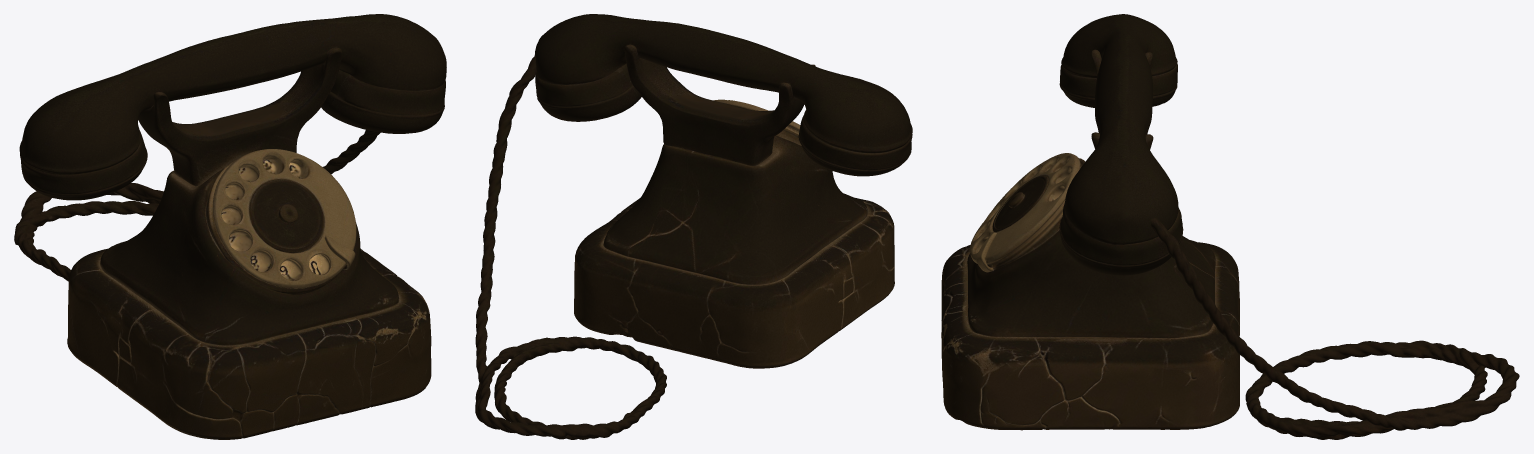
File: telefon-2.glb
The picture shows the model from 3 angles, left to right: view 1: azimuth 30°, elevation 25°; view 2: azimuth 150°, elevation 25°; view 3: azimuth 270°, elevation 25°; orthographic projection. The views are drawn at different scales.
Bounding box in the file's own units: 1.54 × 1.14 × 1.9.
1 material, 1 textured.
